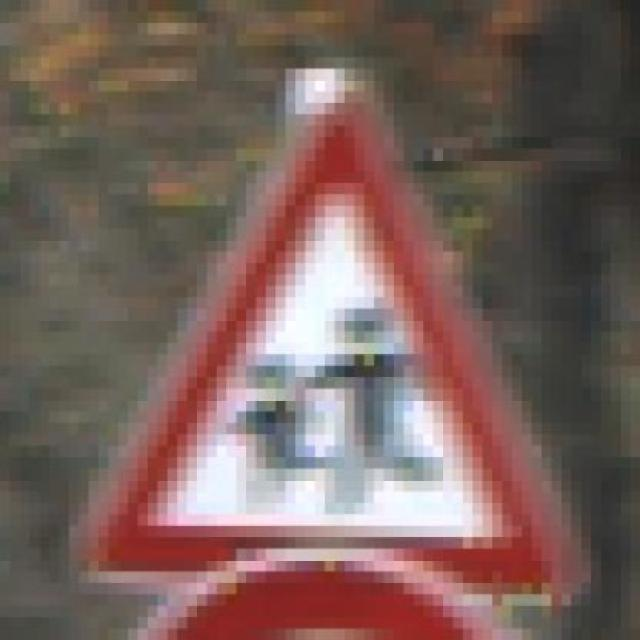Beware of children: (67, 64, 599, 590)
